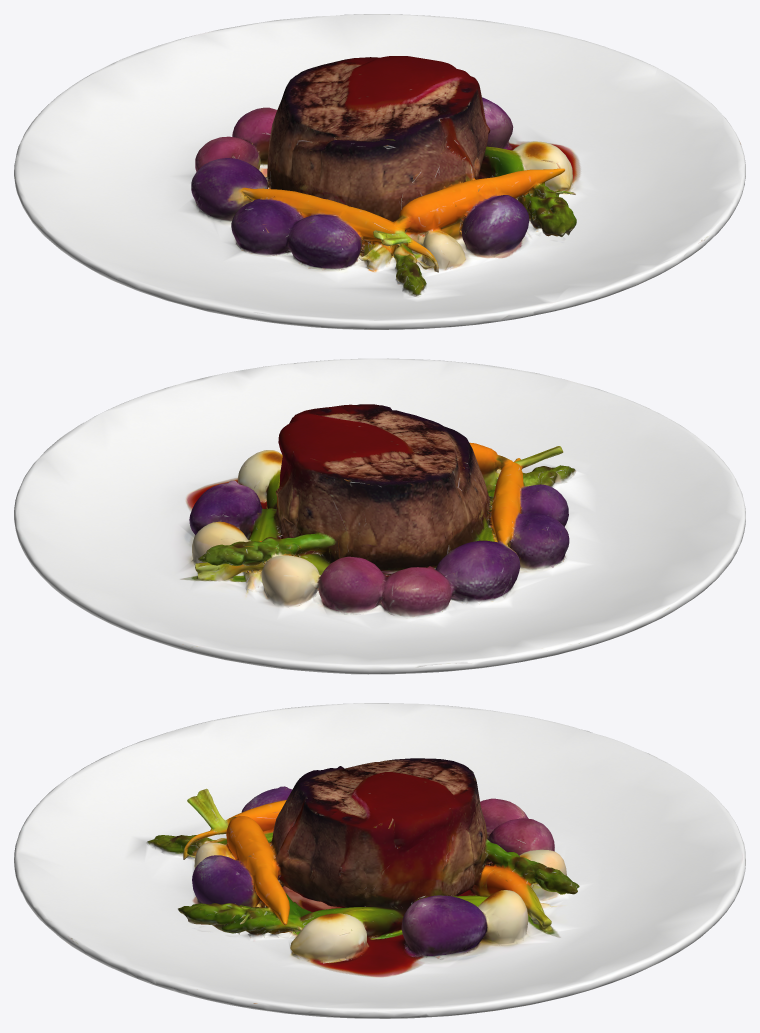
The model's file is dish.glb.
3 views of the same model, one above another, from view 1: azimuth 30°, elevation 25°; view 2: azimuth 150°, elevation 25°; view 3: azimuth 270°, elevation 25° (orthographic).
Visible parts, largest first — view 1: Mesh_0; view 2: Mesh_0; view 3: Mesh_0.
Boxes of the visible parts, x1,y1,x2,y2 form: Mesh_0: (14, 14, 745, 329); Mesh_0: (14, 358, 745, 674); Mesh_0: (14, 703, 745, 1018).
Bounding box in the file's own units: 1.91 × 0.3728 × 1.91.
Materials: 1 (1 with a texture image).
